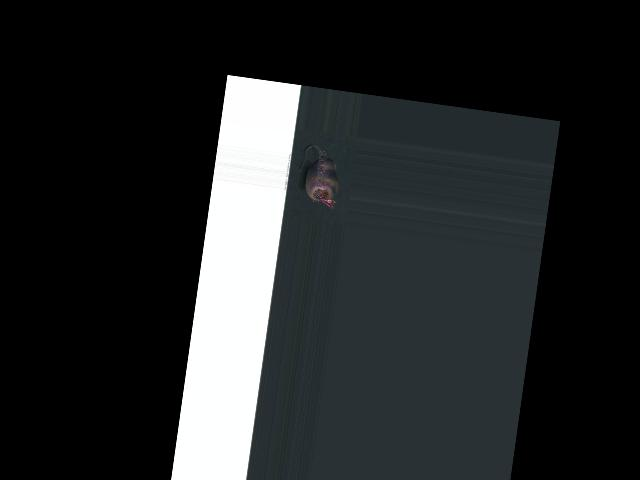beet: (294, 144, 343, 210)
